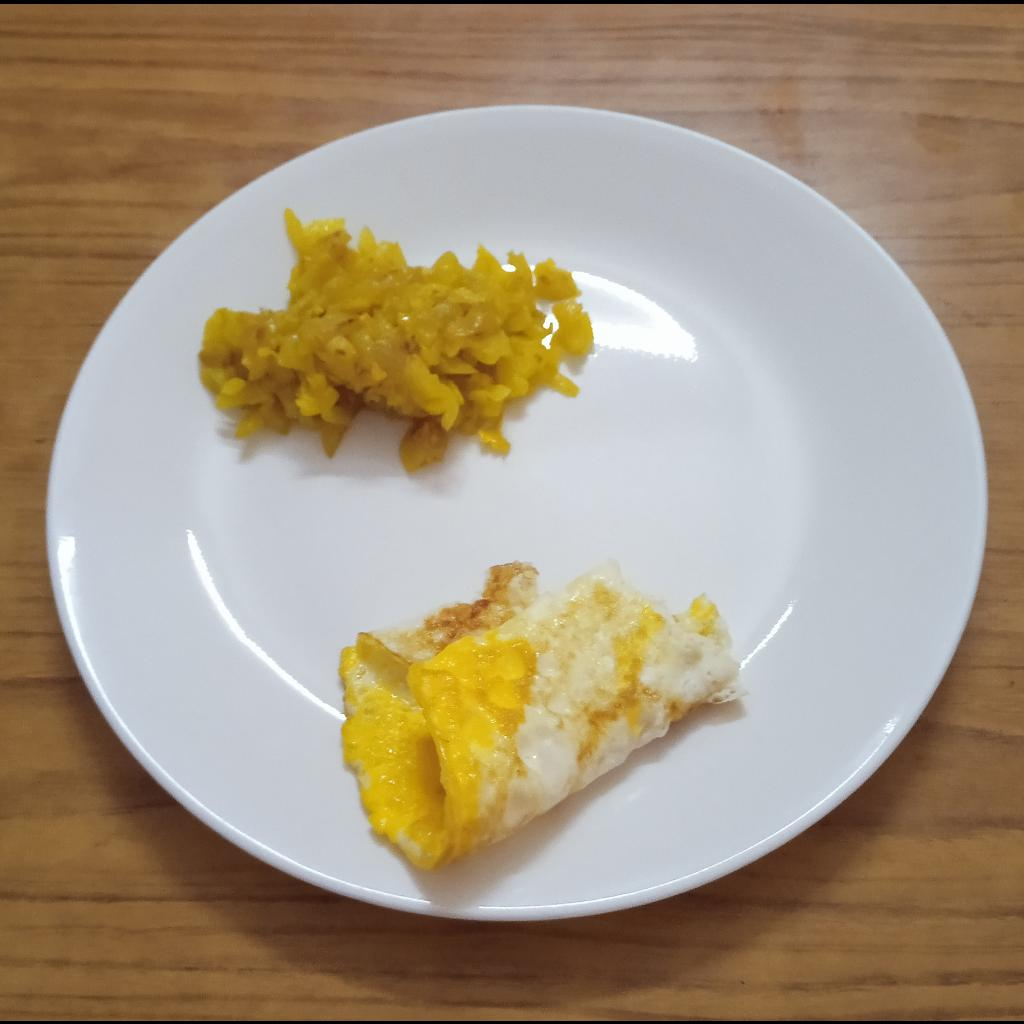egg-poached: (336, 558, 741, 872)
vegetable: (194, 203, 593, 476)
